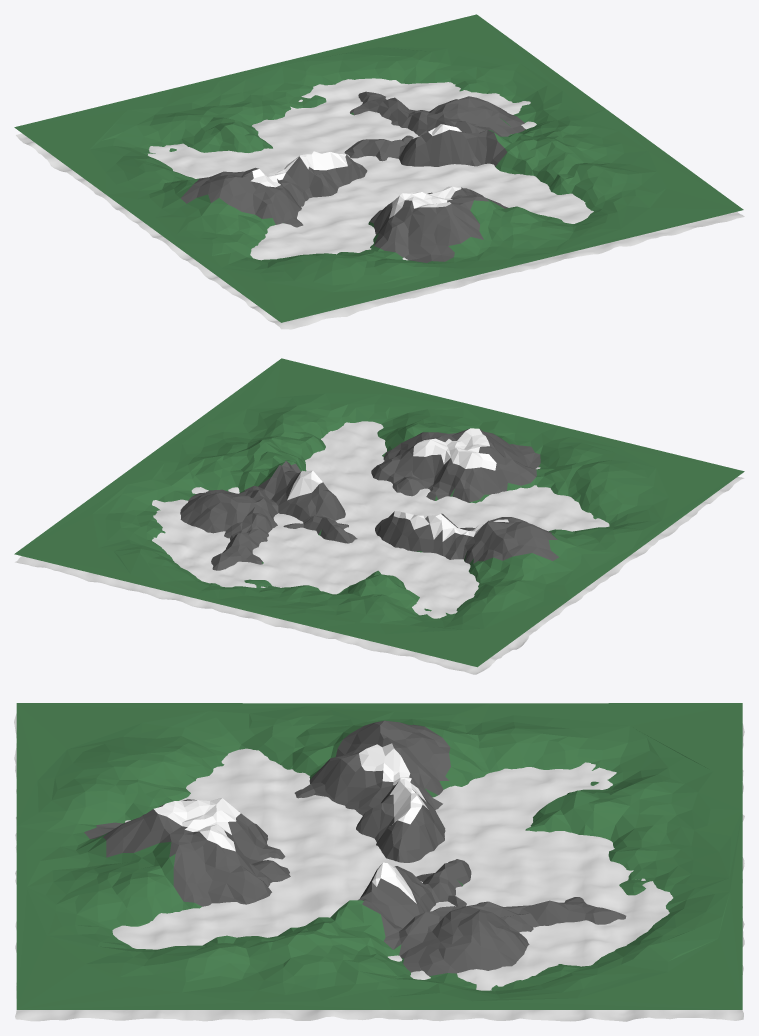
The model's file is hills.gltf.
3 views of the same model, one above another, from view 1: azimuth 30°, elevation 25°; view 2: azimuth 150°, elevation 25°; view 3: azimuth 270°, elevation 25° (orthographic). The views are drawn at different scales.
Visible parts, largest first — view 1: Landscape.005_1, Landscape_plane.002_2; view 2: Landscape.005_1, Landscape_plane.002_2; view 3: Landscape.005_1, Landscape_plane.002_2.
Boxes of the visible parts, x1,y1,x2,y2 form: Landscape.005_1: [14, 14, 743, 322]; Landscape_plane.002_2: [16, 78, 744, 329]; Landscape.005_1: [14, 358, 744, 667]; Landscape_plane.002_2: [15, 421, 744, 674]; Landscape.005_1: [16, 703, 742, 1009]; Landscape_plane.002_2: [14, 713, 744, 1021].
Size of the model in its own units: 59.76 by 6.35 by 59.64.
